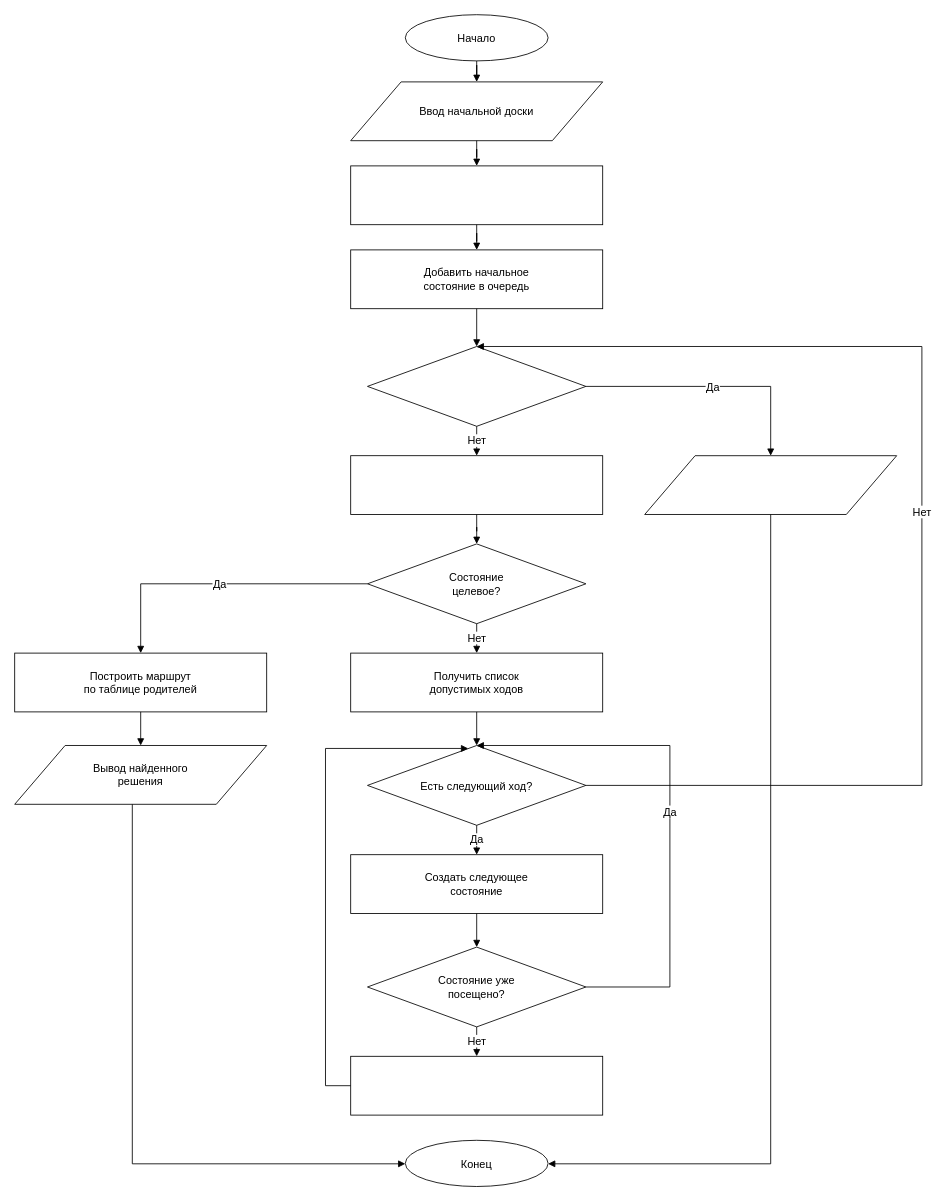
Image size: 946x1201. Some labels were removed from this diagram. The shapes that lost their labels are listed below. From the top down, each one's centre as x and y in pixels, then its label:
At (476,195): "Создать очередь, visited и таблицу родителей".
At (476,386): "Очередь пуста?".
At (476,484): "Извлечь первое состояние из очереди".
At (770,484): "Вывод: решение не найдено".
At (476,1085): "Сохранить родителя, добавить в visited и поставить в очередь".
